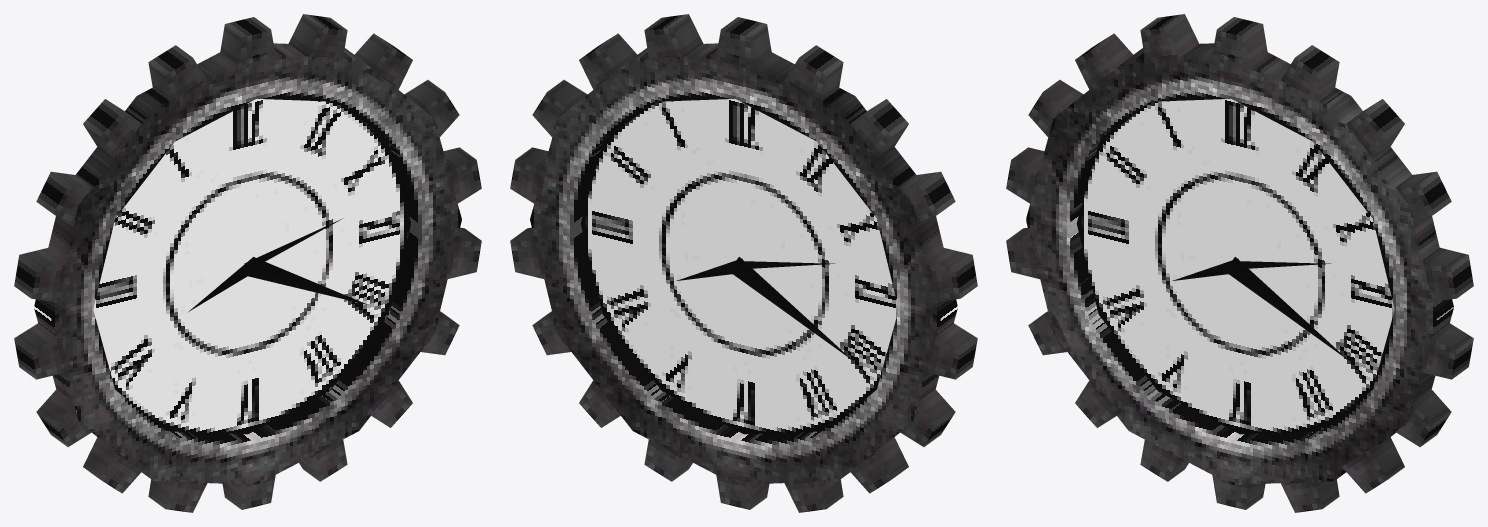
The model's file is ps2_save-icons_clockzero.glb.
3 renders of one model, left to right at view 1: azimuth 30°, elevation 25°; view 2: azimuth 150°, elevation 25°; view 3: azimuth 330°, elevation 25°, orthographic.
Parts seen in each view (by area): view 1: SAVE.ICO; view 2: SAVE.ICO; view 3: SAVE.ICO.
Boxes of the visible parts, x1,y1,x2,y2 form: SAVE.ICO: [14, 14, 481, 512]; SAVE.ICO: [510, 14, 977, 512]; SAVE.ICO: [1006, 14, 1473, 512].
Bounding box in the file's own units: 1.95 × 1.96 × 0.1279.
Materials: 1 (1 with a texture image).
